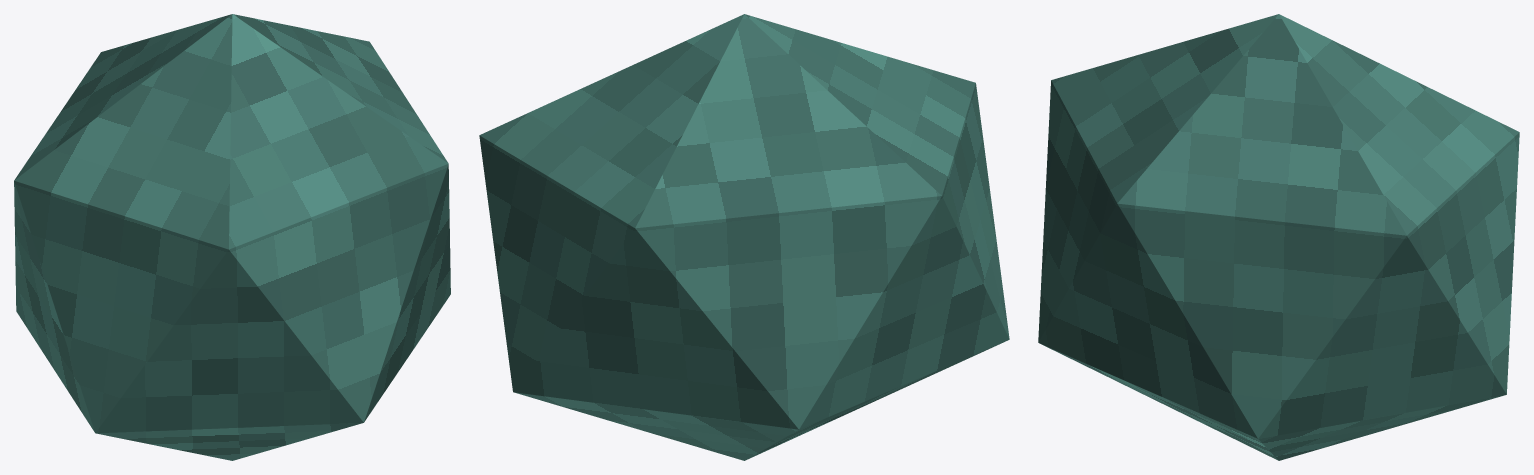
File: rock_26.glb
3 views of the same model, side by side, from view 1: azimuth 30°, elevation 25°; view 2: azimuth 150°, elevation 25°; view 3: azimuth 270°, elevation 25° (orthographic).
Parts seen in each view (by area): view 1: WeatheredStone; view 2: WeatheredStone; view 3: WeatheredStone.
Part boxes in pixels (left/top/right/bottom): WeatheredStone: left=14, top=14, right=450, bottom=460; WeatheredStone: left=479, top=14, right=1009, bottom=460; WeatheredStone: left=1038, top=14, right=1519, bottom=460.
Bounding box in the file's own units: 0.9976 × 1.02 × 0.9999.
1 material, 1 textured.
